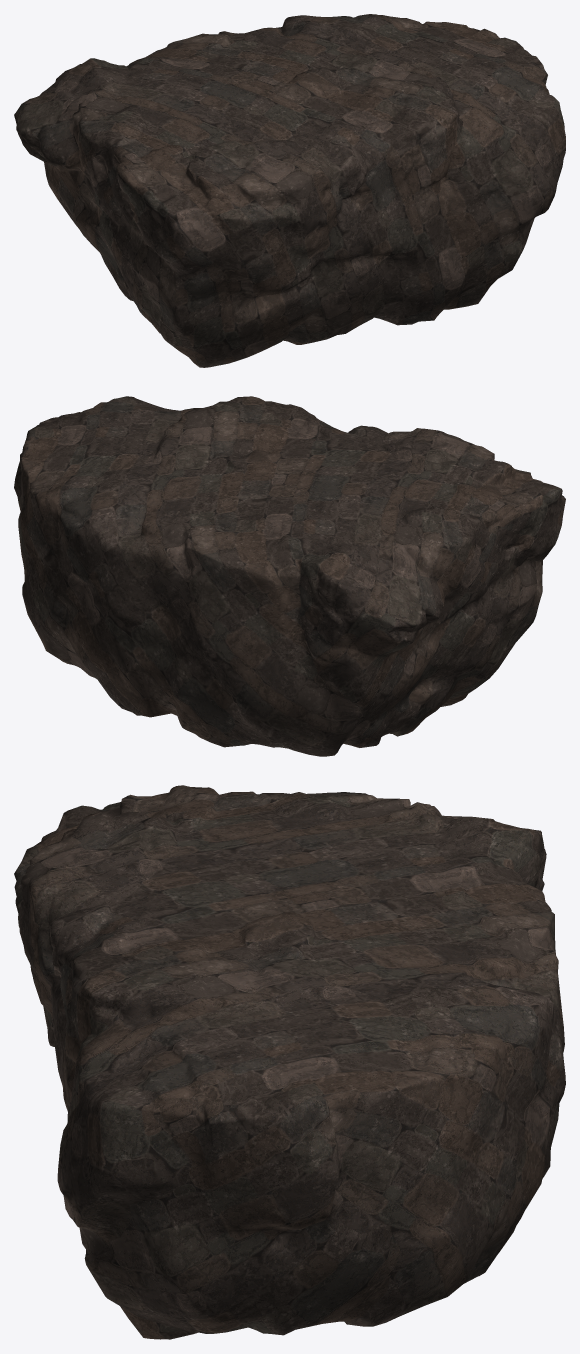
File: aeg270_522.glb
The picture shows the model from 3 angles, top to bottom: view 1: azimuth 30°, elevation 25°; view 2: azimuth 150°, elevation 25°; view 3: azimuth 270°, elevation 25°; orthographic projection. The views are drawn at different scales.
Visible parts, largest first — view 1: mesh[0]; view 2: mesh[0]; view 3: mesh[0].
Boxes of the visible parts, x1,y1,x2,y2 form: mesh[0]: [14, 14, 565, 367]; mesh[0]: [14, 396, 565, 756]; mesh[0]: [14, 785, 565, 1339].
Bounding box in the file's own units: 14.34 × 7.21 × 10.42.
Materials: 1 (1 with a texture image).
